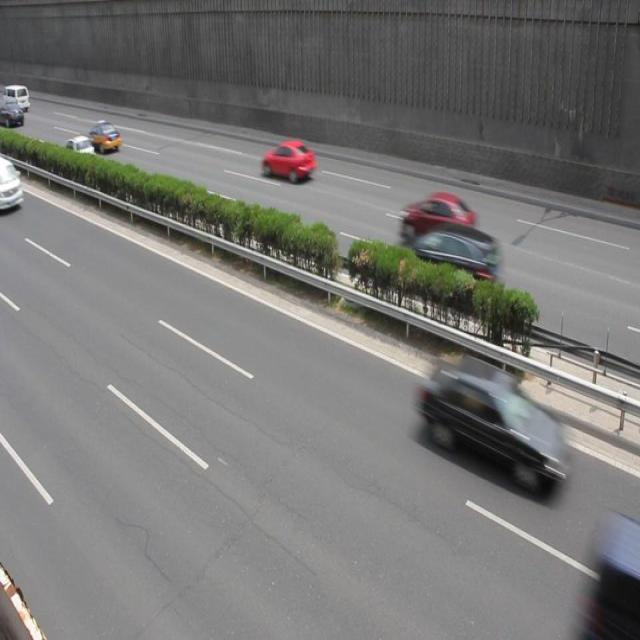car: (417, 353, 559, 488), (394, 224, 502, 306), (398, 193, 476, 244), (260, 139, 315, 181), (86, 121, 121, 154), (61, 136, 96, 166)
